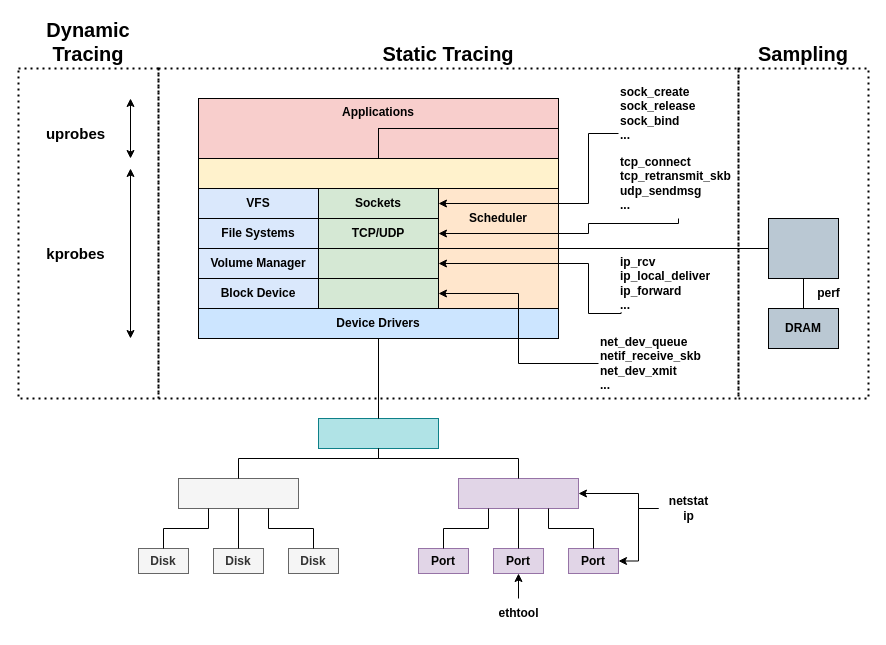
This 886x645 diagram has some shape labels left out. Here are the shapes that lost their labels. From the top down, the centre of each, then its label:
At [468,143]: "System Libraries".
At [378,173]: "System Call Interface".
At [378,263]: "IP".
At [803,248]: "CPUs".
At [378,293]: "Net Device".
At [498,278]: "Virtual Memory".
At [378,433]: "I/O Bridge".
At [238,493]: "I/O Controller".
At [518,493]: "Network Controller".
